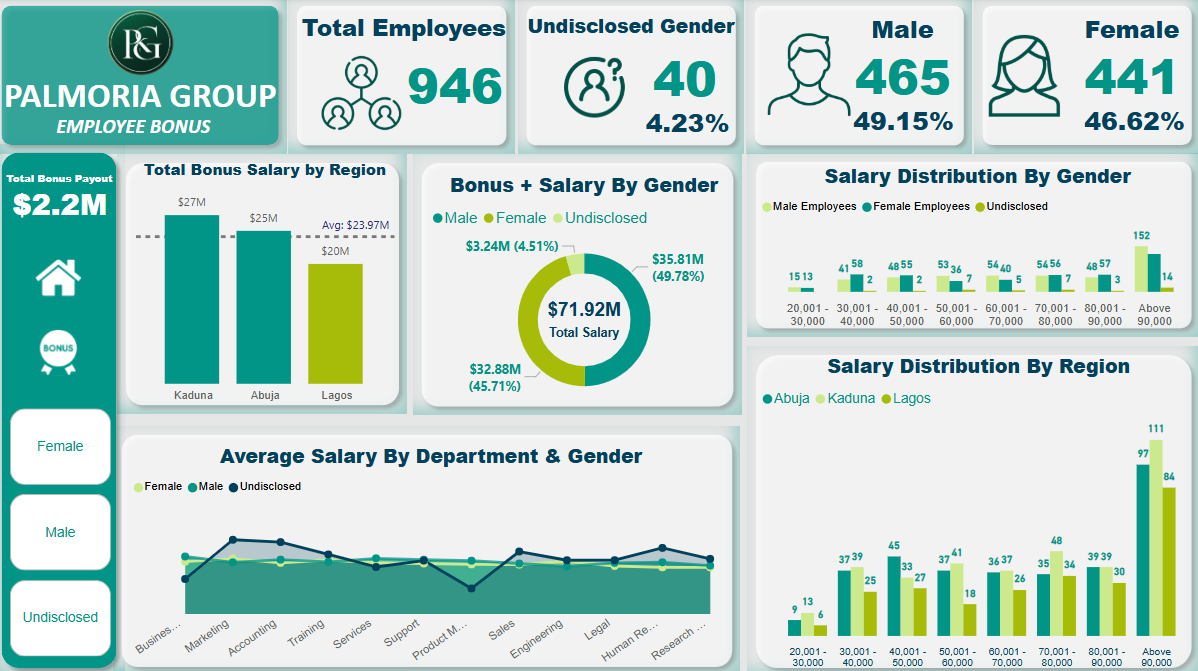

The dashboard page shown, as its layout file describes it:
{"tool":"powerbi","page":{"name":"Bonus","canvas":[1280,720],"ordinal":1},"visuals":[{"type":"shape","box":[800,165,480,195],"z":0},{"type":"shape","box":[800,370,480,350],"z":1000},{"type":"clusteredColumnChart","title":"Salary Distribution By Gender","fields":{"Category":["Palmoria Group emp-data.Salary Range"],"Y":["Bonus Rules.Male Employees","Bonus Rules.Female Employees","Bonus Rules.Undisclosed"]},"box":[808.9,174.4,468.9,183.3],"z":2000},{"type":"shape","box":[0,155.9,140,564.7],"z":3000},{"type":"shape","box":[132.5,167.5,307.5,275],"z":4000},{"type":"shape","box":[445,166.2,348.8,276.2],"z":5000},{"type":"shape","box":[118,22,46,44],"z":6000},{"type":"donutChart","title":"Bonus + Salary By Gender","fields":{"Y":["Sum(New Salary.Total Salary)"],"Category":["New Salary.Gender"]},"box":[460,183.8,333.8,255],"z":7000},{"type":"card","title":"Total Bonus Payout","fields":{"Values":["Sum(New Salary.Total Bonus)"]},"box":[6,184,128,54],"z":8000},{"type":"clusteredColumnChart","title":"Total Bonus Salary by Region","fields":{"Category":["New Salary.Location"],"Y":["Sum(New Salary.Total Salary)"]},"box":[146,172,284,266],"z":9000},{"type":"clusteredColumnChart","title":"Salary Distribution By Region","fields":{"Category":["Palmoria Group emp-data.Salary Range"],"Series":["Palmoria Group emp-data.Location"],"Y":["CountNonNull(Palmoria Group emp-data.Gender)"]},"box":[808.9,376.7,471.1,342.2],"z":10000},{"type":"card","title":"Total Salary Paid","fields":{"Values":["Sum(New Salary.Total Salary)"]},"box":[561.2,300,130,76.2],"z":11000},{"type":"actionButton","box":[42,266,56,64],"z":12000},{"type":"actionButton","box":[42,344,56,66],"z":13000},{"type":"shape","box":[127.8,455.6,665.6,264.4],"z":14000},{"type":"areaChart","title":"Average Salary By Department & Gender","fields":{"Category":["Palmoria Group emp-data.Department"],"Y":["Avg(Palmoria Group emp-data.Salary)"],"Series":["Palmoria Group emp-data.Gender"]},"box":[143.3,472.2,642.2,245.6],"z":15000},{"type":"shape","box":[313.8,0,240,166.2],"z":16000},{"type":"shape","box":[0,0,312,166],"z":17000},{"type":"shape","box":[1040,0,240,166],"z":18000},{"type":"shape","box":[798.8,0,240,166.2],"z":19000},{"type":"textbox","box":[6,76,300,86],"z":20000},{"type":"textbox","box":[62,120,204,36],"z":21000},{"type":"card","title":"Total Employees","fields":{"Values":["CountNonNull(Palmoria Group emp-data.Gender)"]},"box":[430,58,120,66],"z":22000},{"type":"card","title":"Male","fields":{"Values":["Bonus Rules.Male Employees"]},"box":[902.5,16.2,125,98.8],"z":23000},{"type":"card","fields":{"Values":["Bonus Rules.%Male"]},"box":[900,106.2,130,50],"z":24000},{"type":"card","fields":{"Values":["Bonus Rules.%Female"]},"box":[1145,106.7,130,50],"z":25000},{"type":"image","box":[800,31.2,130,101.2],"z":26000},{"type":"image","box":[1045,30,96.7,106.7],"z":27000},{"type":"shape","box":[556.2,0,240,166.2],"z":28000},{"type":"card","title":"Undisclosed","fields":{"Values":["Bonus Rules.Undisclosed"]},"box":[683.8,52.5,98.8,62.5],"z":29000},{"type":"image","box":[597.5,48.8,78.8,92.5],"z":30000},{"type":"textbox","title":"Undisclosed Gender","box":[551.2,16.2,248.8,30],"z":31000},{"type":"textbox","title":"Total Employees","box":[317.5,15,235,35],"z":32000},{"type":"image","box":[327.5,53.8,126.2,95],"z":33000},{"type":"card","title":"Female","fields":{"Values":["Bonus Rules.Female Employees"]},"box":[1145,16.7,125,98.3],"z":34000},{"type":"card","fields":{"Values":["Bonus Rules.%Undisclosed"]},"box":[672,108,130,50],"z":35000},{"type":"advancedSlicerVisual","fields":{"Values":["Palmoria Group emp-data.Gender"]},"box":[12.2,431.4,117.5,273.4],"z":36000},{"type":"image","box":[12,0,288,98],"z":37000}]}

Visuals, with their boxes in screenshot pixels (x1, y1, x2, y2), scaled from the page's 1280x720 canvas onto the 1198x671 screenshot:
shape: [749,154,1197,336]
shape: [749,345,1197,670]
"Salary Distribution By Gender" clusteredColumnChart: [757,163,1196,333]
shape: [0,145,131,670]
shape: [124,156,412,412]
shape: [416,155,743,412]
shape: [110,21,153,62]
"Bonus + Salary By Gender" donutChart: [431,171,743,409]
"Total Bonus Payout" card: [6,171,125,222]
"Total Bonus Salary by Region" clusteredColumnChart: [137,160,402,408]
"Salary Distribution By Region" clusteredColumnChart: [757,351,1197,670]
"Total Salary Paid" card: [525,280,647,351]
actionButton: [39,248,92,308]
actionButton: [39,321,92,382]
shape: [120,425,743,670]
"Average Salary By Department & Gender" areaChart: [134,440,735,669]
shape: [294,0,518,155]
shape: [0,0,292,155]
shape: [973,0,1197,155]
shape: [748,0,972,155]
textbox: [6,71,286,151]
textbox: [58,112,249,145]
"Total Employees" card: [402,54,515,116]
"Male" card: [845,15,962,107]
card - Bonus Rules.%Male: [842,99,964,146]
card - Bonus Rules.%Female: [1072,99,1193,146]
image: [749,29,870,123]
image: [978,28,1069,127]
shape: [521,0,745,155]
"Undisclosed" card: [640,49,732,107]
image: [559,45,633,132]
"Undisclosed Gender" textbox: [516,15,749,43]
"Total Employees" textbox: [297,14,517,47]
image: [307,50,425,139]
"Female" card: [1072,16,1189,107]
card - Bonus Rules.%Undisclosed: [629,101,751,147]
advancedSlicerVisual - Palmoria Group emp-data.Gender: [11,402,121,657]
image: [11,0,281,91]
